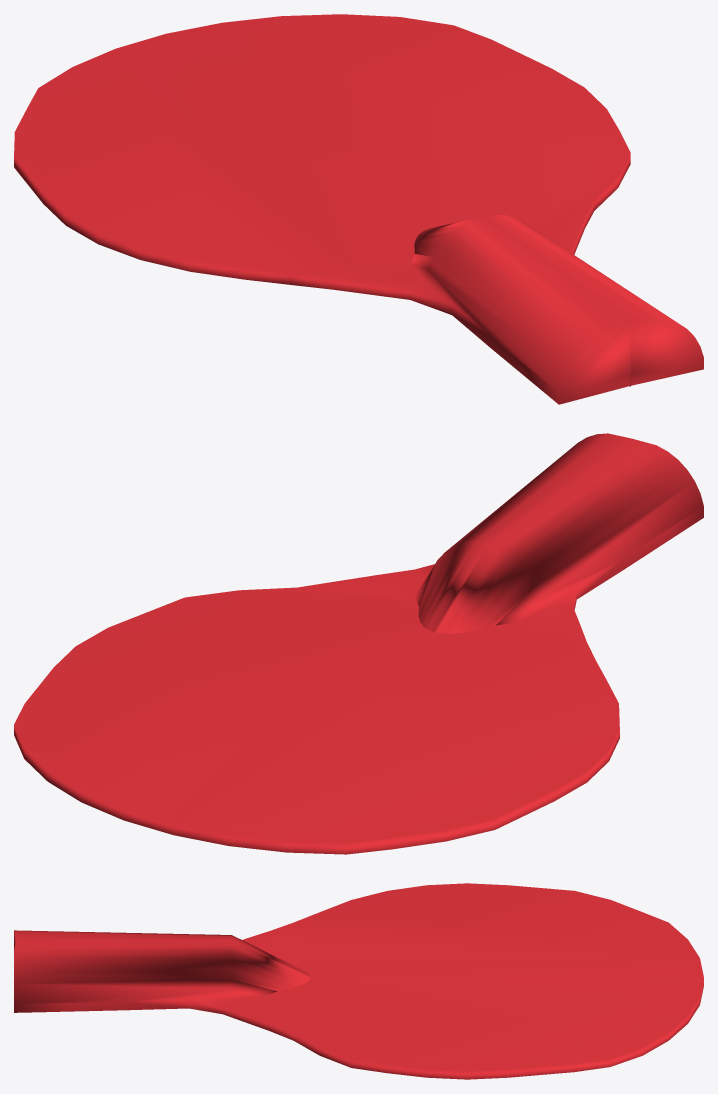
The model's file is pingpong.gltf.
3 views of the same model, one above another, from view 1: azimuth 30°, elevation 25°; view 2: azimuth 150°, elevation 25°; view 3: azimuth 270°, elevation 25° (orthographic). The views are drawn at different scales.
Parts seen in each view (by area): view 1: Cylinder; view 2: Cylinder; view 3: Cylinder.
Part boxes in pixels (x1,y1,x2,y2): Cylinder: [14, 14, 703, 404]; Cylinder: [14, 433, 703, 854]; Cylinder: [14, 883, 703, 1079].
Bounding box in the file's own units: 0.1638 × 0.0203 × 0.2546.
